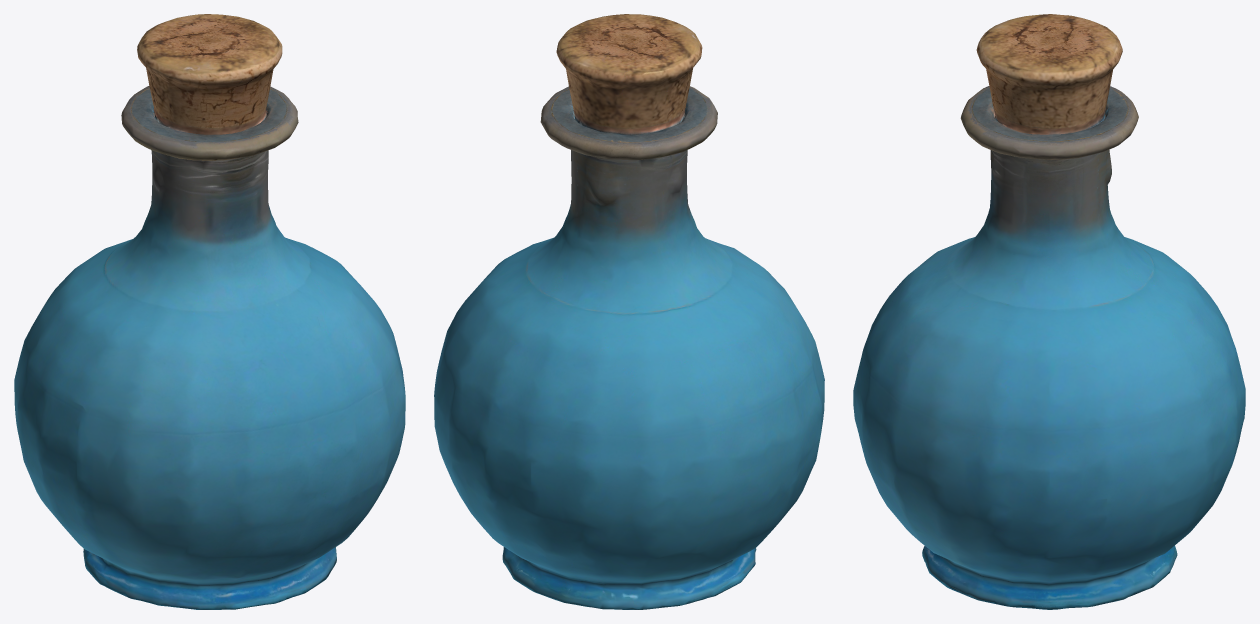
The model's file is hp_potion_0617081050_texture.fbx.
3 views of the same model, side by side, from view 1: azimuth 30°, elevation 25°; view 2: azimuth 150°, elevation 25°; view 3: azimuth 270°, elevation 25° (orthographic).
Parts seen in each view (by area): view 1: Mesh_0; view 2: Mesh_0; view 3: Mesh_0.
Part boxes in pixels (left/top/right/bottom): Mesh_0: left=14, top=14, right=405, bottom=609; Mesh_0: left=434, top=14, right=824, bottom=609; Mesh_0: left=853, top=14, right=1245, bottom=609.
Bounding box in the file's own units: 138 × 200 × 138.
Materials: 1 (1 with a texture image).
